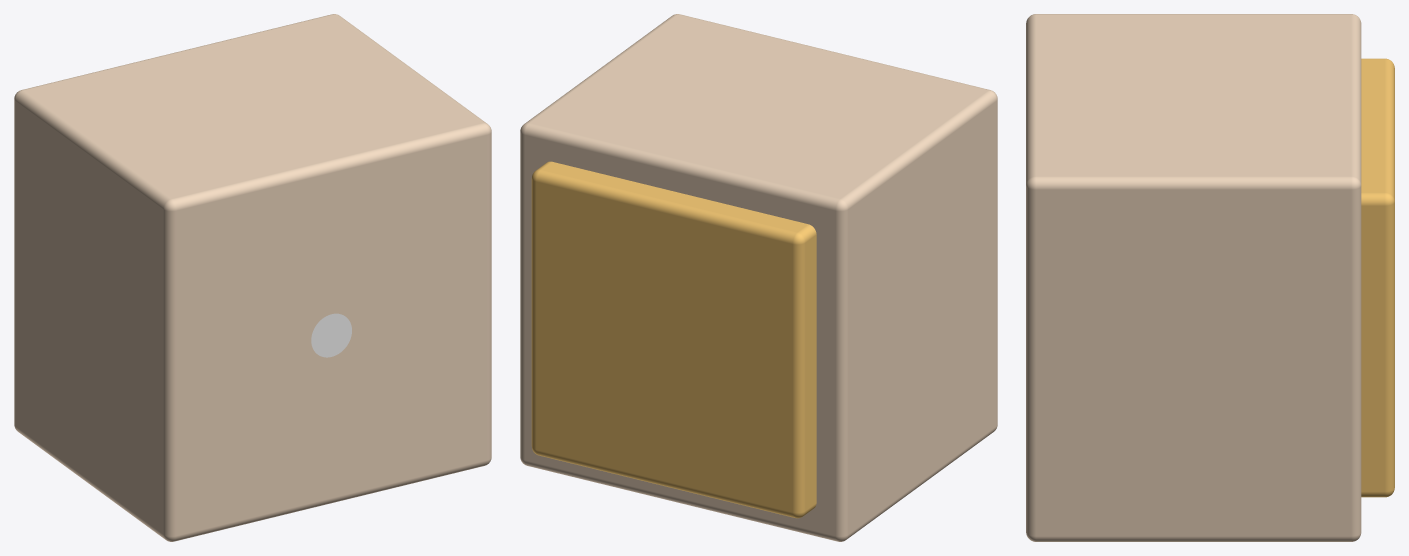
The model's file is model_sep.gltf.
The picture shows the model from 3 angles, left to right: view 1: azimuth 30°, elevation 25°; view 2: azimuth 150°, elevation 25°; view 3: azimuth 270°, elevation 25°; orthographic projection. The views are drawn at different scales.
Parts seen in each view (by area): view 1: Part 2, Part 3; view 2: Part 2, Part 1; view 3: Part 2, Part 1.
Boxes of the visible parts, left/top/right/bottom form: Part 2: left=14, top=14, right=491, bottom=541; Part 3: left=311, top=313, right=351, bottom=357; Part 2: left=520, top=14, right=997, bottom=541; Part 1: left=531, top=161, right=816, bottom=518; Part 2: left=1026, top=14, right=1361, bottom=541; Part 1: left=1361, top=58, right=1394, bottom=497.
Bounding box in the file's own units: 0.12 × 0.12 × 0.11.
